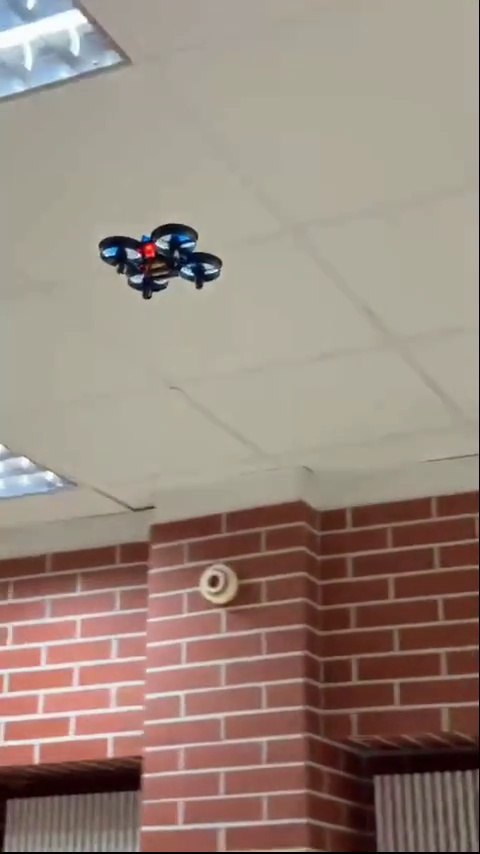drone: (99, 227, 232, 299)
